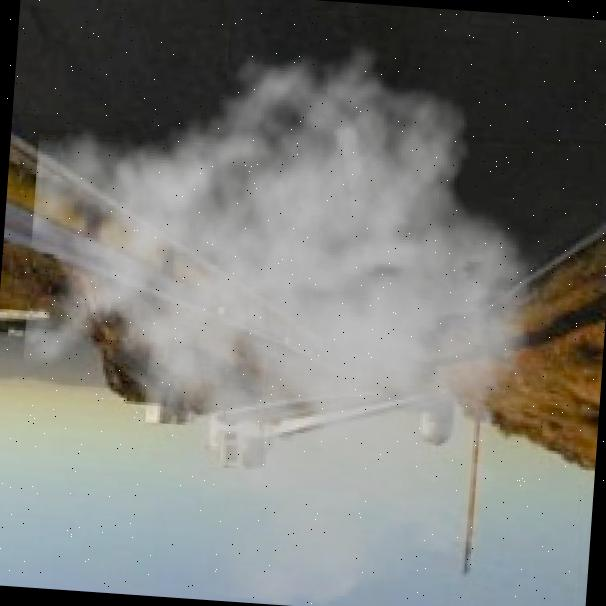smoke: (8, 20, 601, 606)
